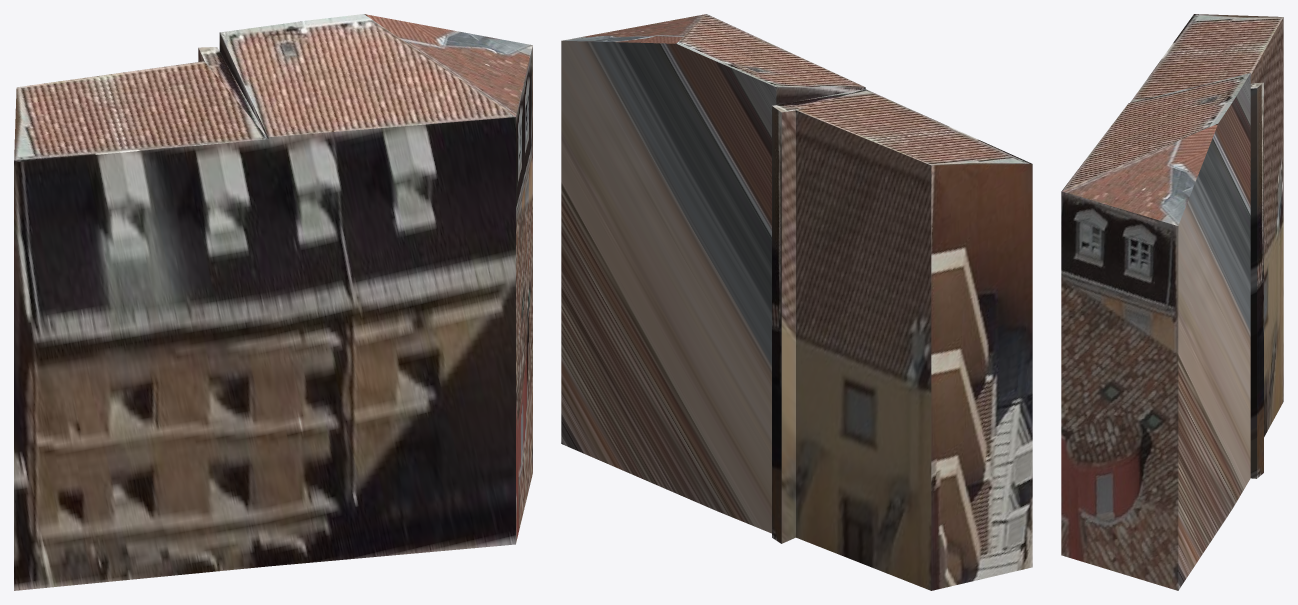
The picture shows the model from 3 angles, left to right: view 1: azimuth 30°, elevation 25°; view 2: azimuth 150°, elevation 25°; view 3: azimuth 270°, elevation 25°; orthographic projection. The views are drawn at different scales.
Visible parts, largest first — view 1: Z_UP; view 2: Z_UP; view 3: Z_UP.
Part boxes in pixels (box(x1,y1,x2,y2)): Z_UP: box(14, 14, 532, 590); Z_UP: box(561, 14, 1032, 590); Z_UP: box(1061, 14, 1283, 590).
Size of the model in its own units: 21.26 by 19.04 by 9.42.
Materials: 2 (1 with a texture image).
